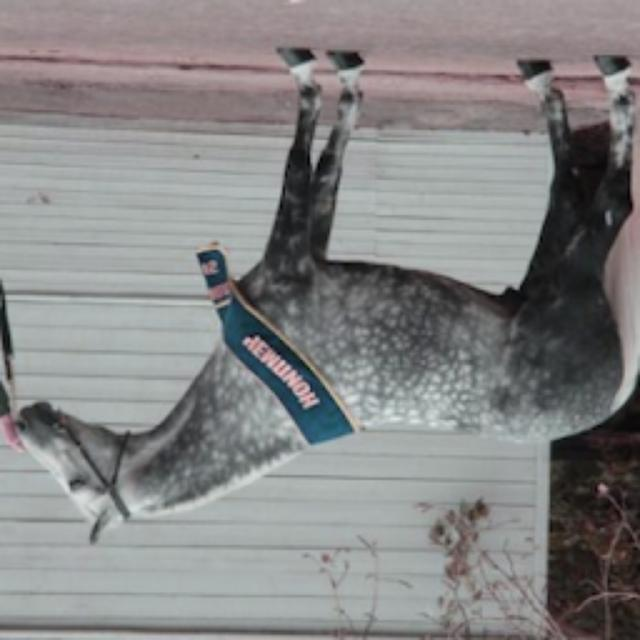Horse: (8, 42, 638, 552)
